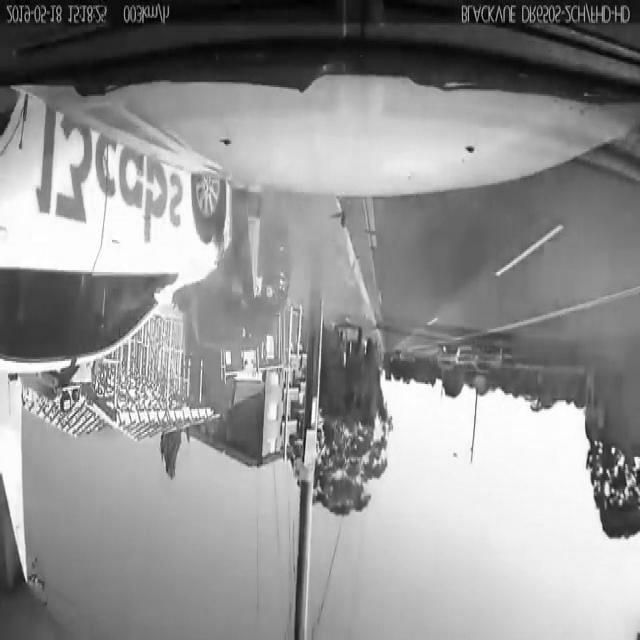moderate: (0, 71, 295, 393)
